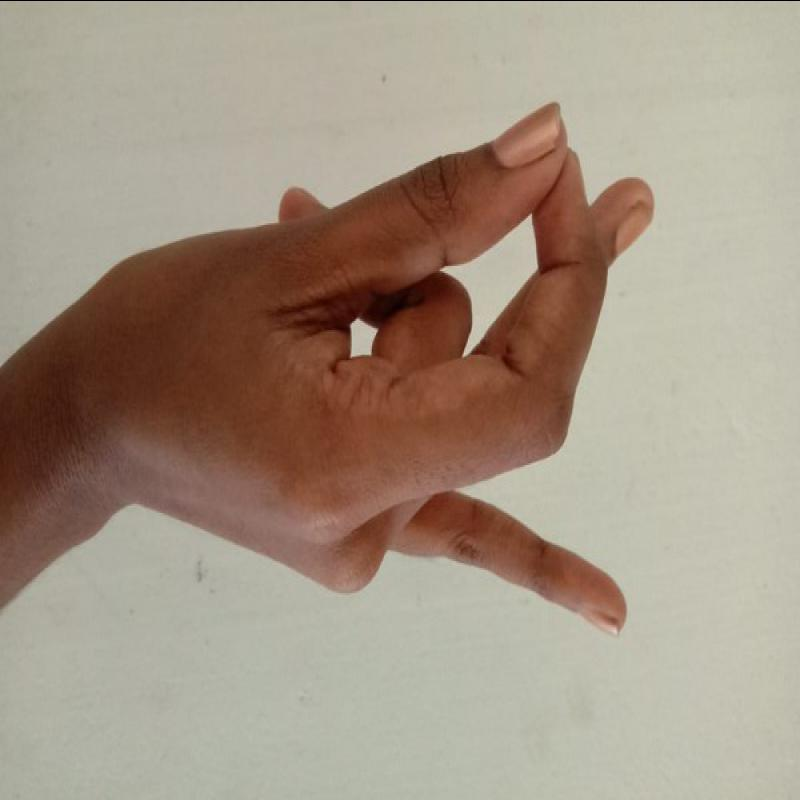Katakam: (98, 84, 669, 662)
